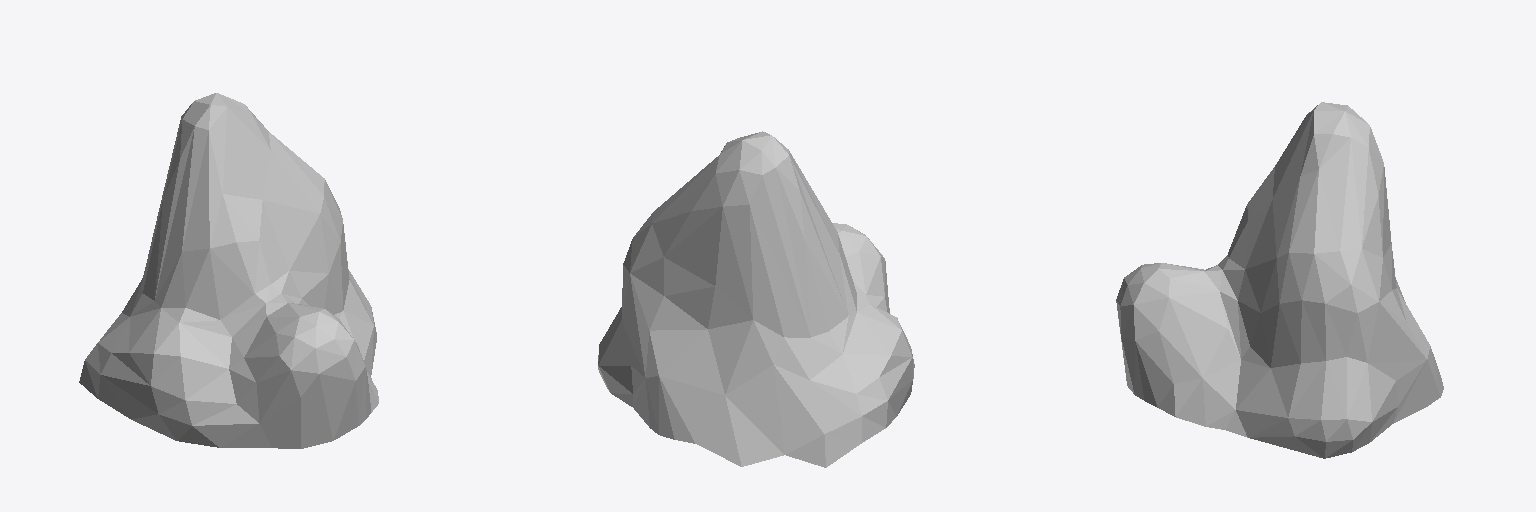
File: stone71.obj
3 views of the same model, side by side, from view 1: azimuth 30°, elevation 25°; view 2: azimuth 150°, elevation 25°; view 3: azimuth 270°, elevation 25° (orthographic).
Parts seen in each view (by area): view 1: stone7_Group1.006; view 2: stone7_Group1.006; view 3: stone7_Group1.006.
Boxes of the visible parts, x1=… form: stone7_Group1.006: x1=79, y1=93, x2=378, y2=448; stone7_Group1.006: x1=598, y1=131, x2=914, y2=467; stone7_Group1.006: x1=1116, y1=102, x2=1443, y2=458.
Size of the model in its own units: 2.26 by 2.22 by 2.32.